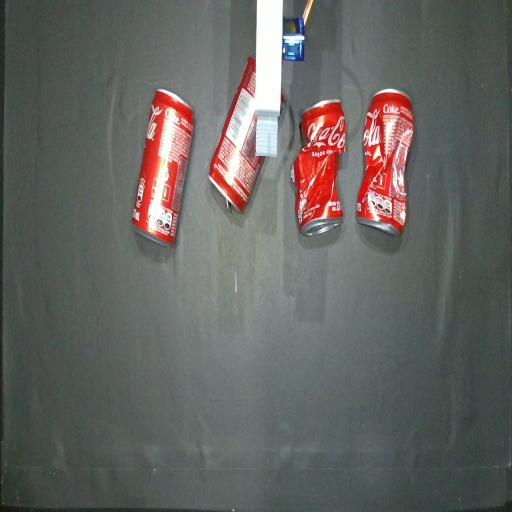lata: (132, 89, 194, 245), (208, 56, 264, 212), (281, 93, 284, 111)
lata_defectuoso: (356, 89, 413, 235), (291, 99, 346, 236)
